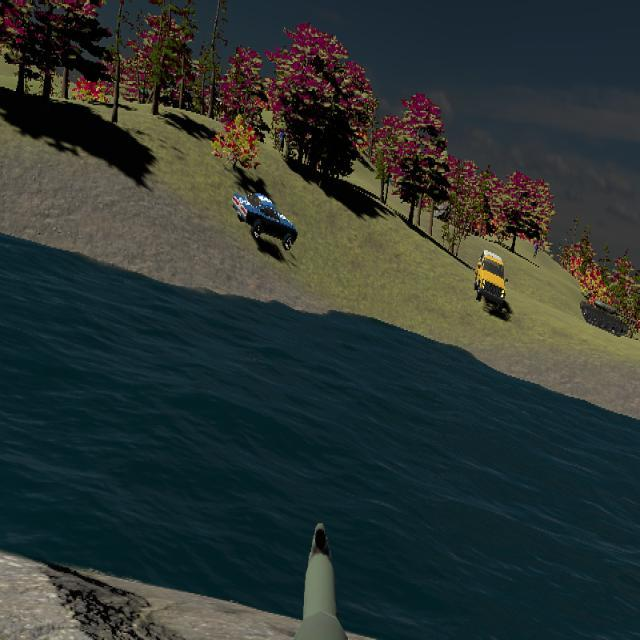Tank: (581, 298, 637, 337)
car: (232, 191, 298, 251), (474, 250, 505, 309)
